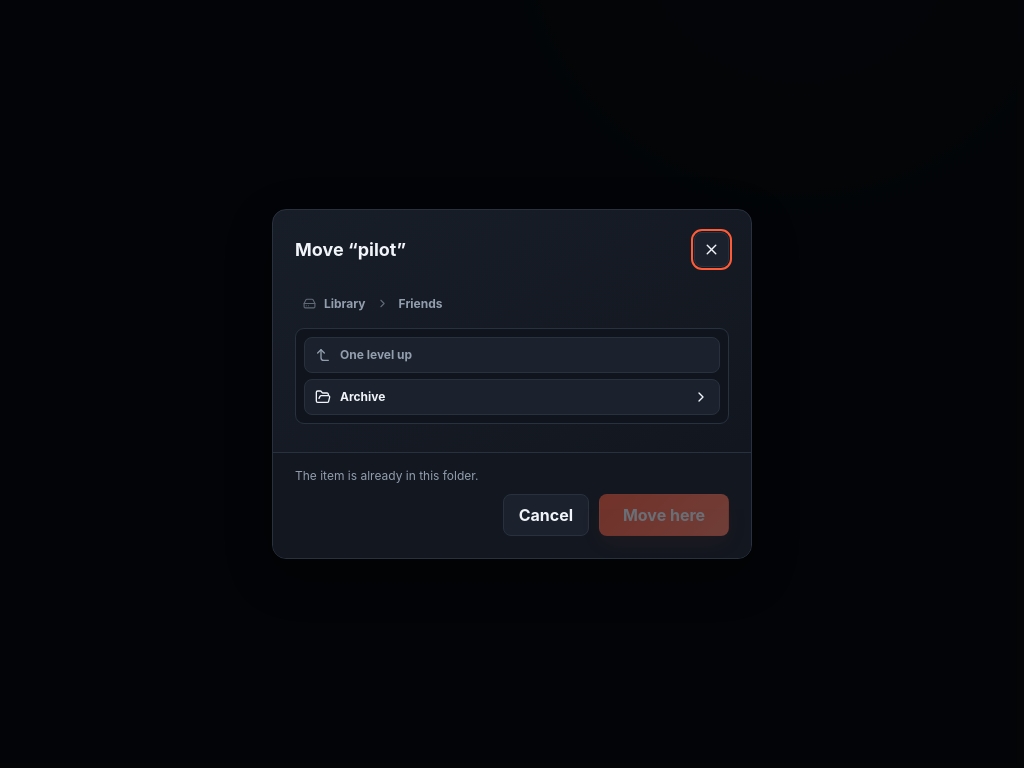
the library root is a destination of its own
The width and height of the screenshot is (1024, 768).
Click the button "Library" at (334, 303), box [295,291,374,316]
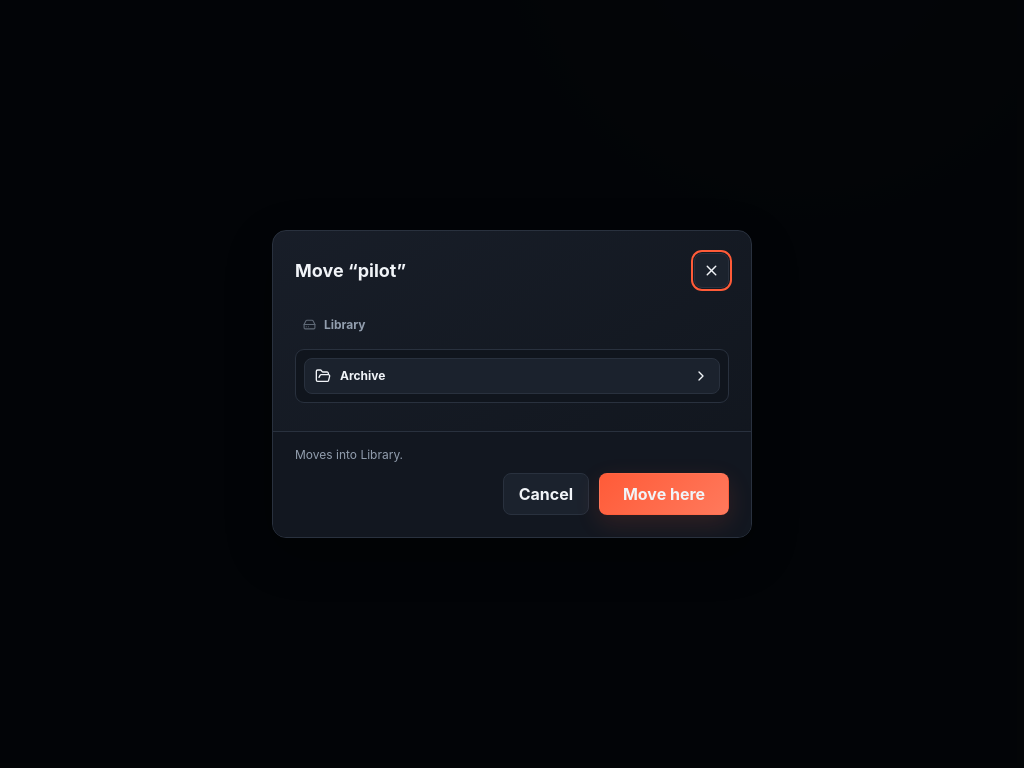
Check: the button "Move here" is enabled, box [599,473,729,515]
Check: the text "Moves into Library." is shown, box [295,447,403,462]
